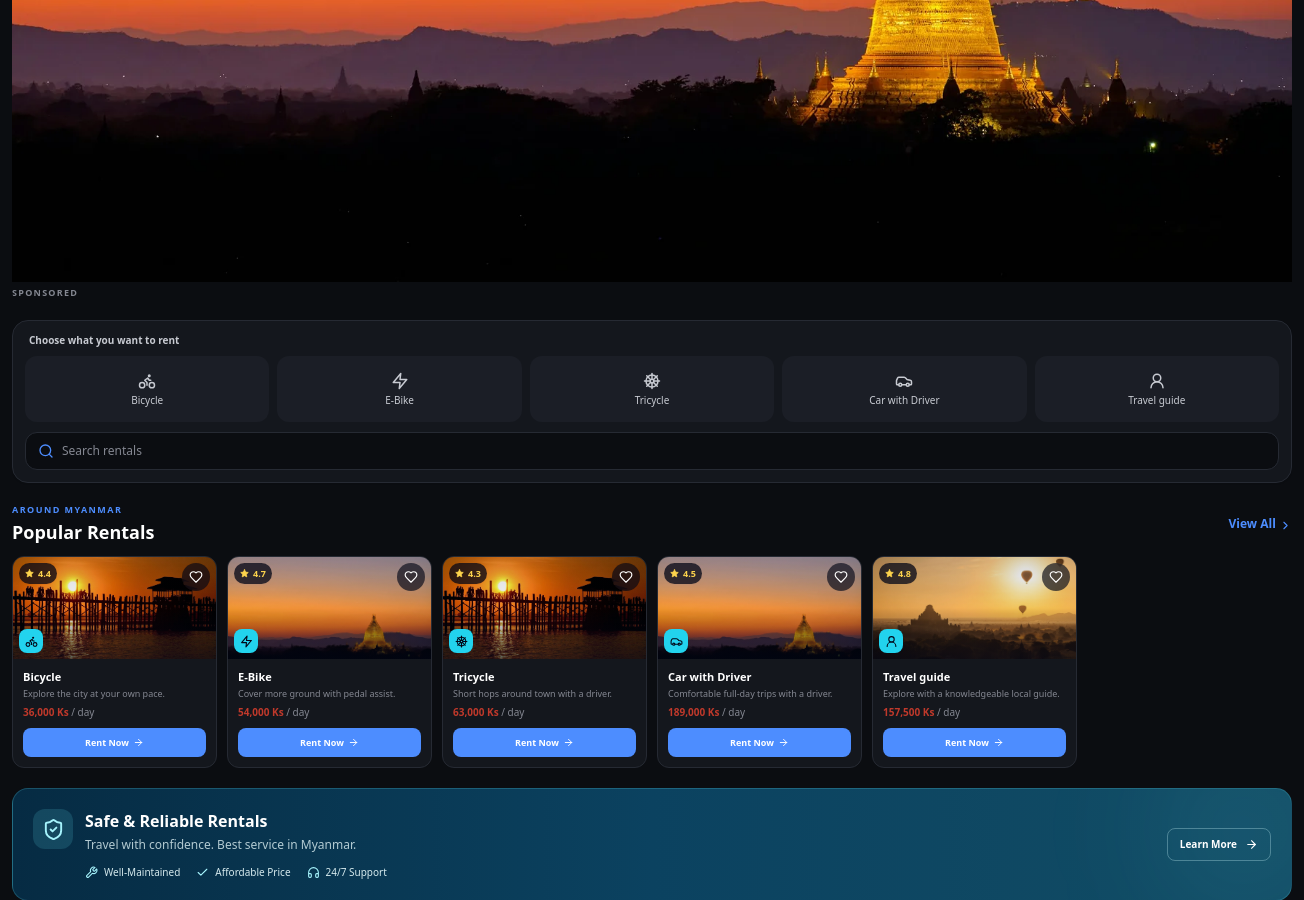
Scenario: every list reaches an empty state › Rentals says no rental options match
(page scrolled)
Type "zzzznomatchzzzz" into the field with placeholder "Search rentals" at (664, 451), box [62,443,1266,459]
(page scrolled)
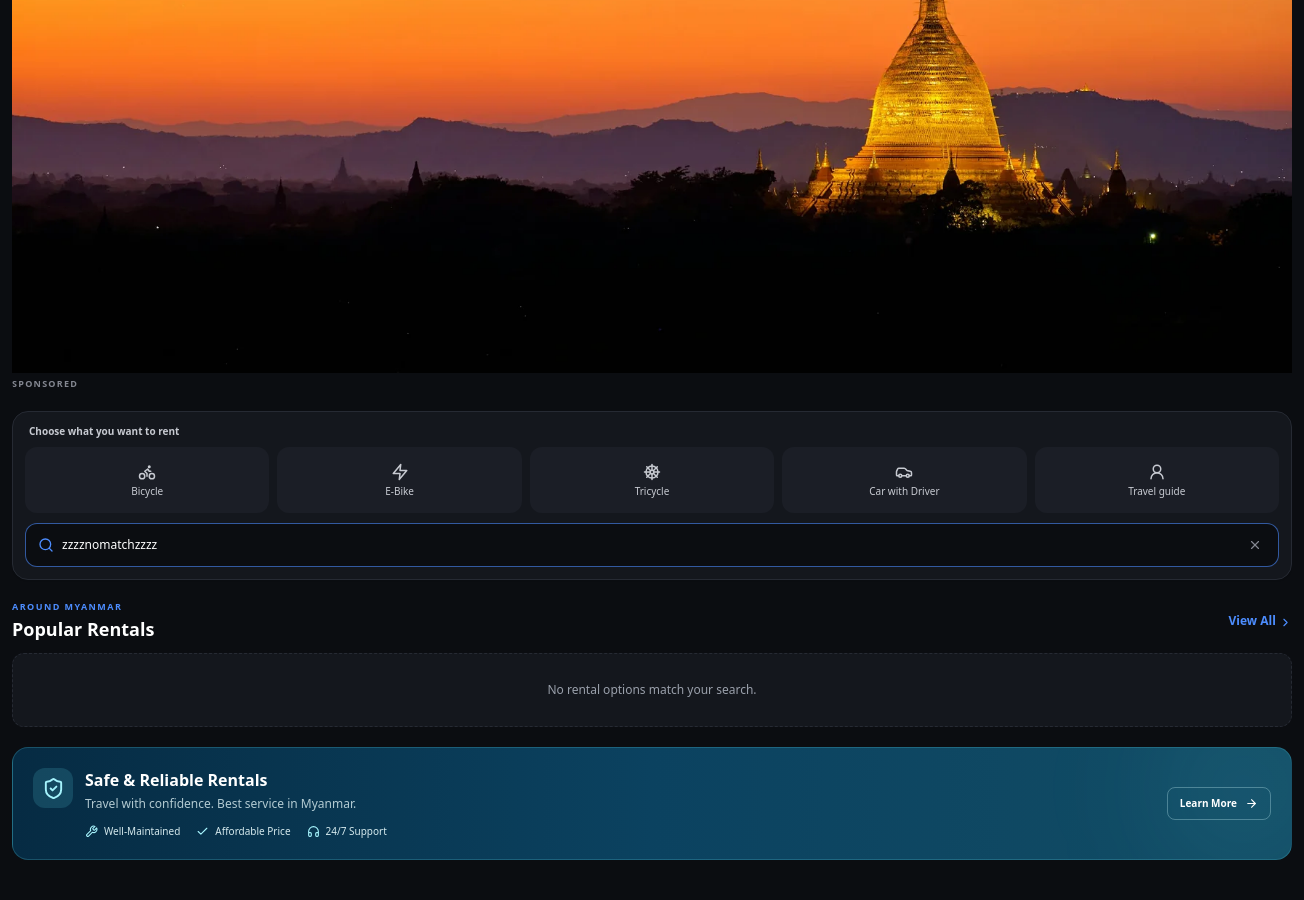
Expected: the text "No rental options match your search." is shown, [12,653,1292,727]
